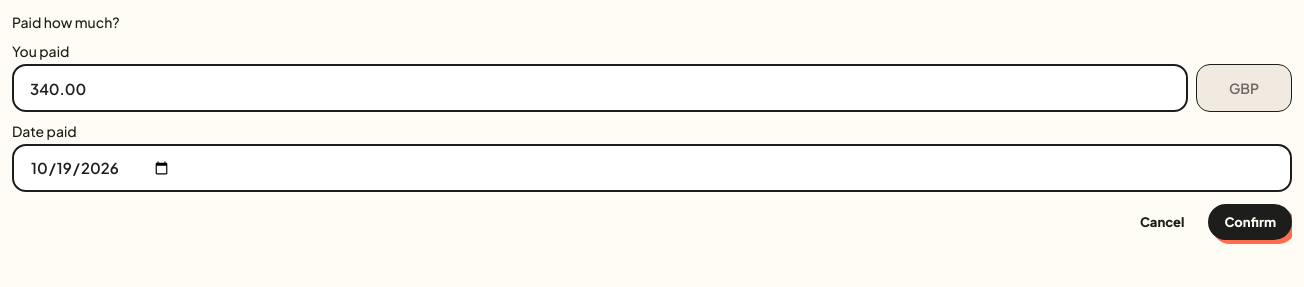
PaidConfirm › refuses to submit an empty date
Step 1. Clear the date field labelled "Date paid" → (652, 168), box [12,144,1292,192]
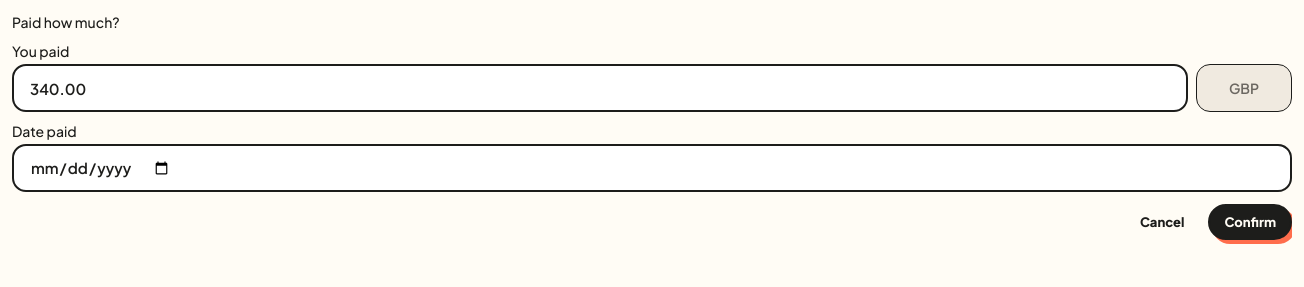
Step 2. Click the button "Confirm" → (1250, 222), box [1208,204,1292,240]
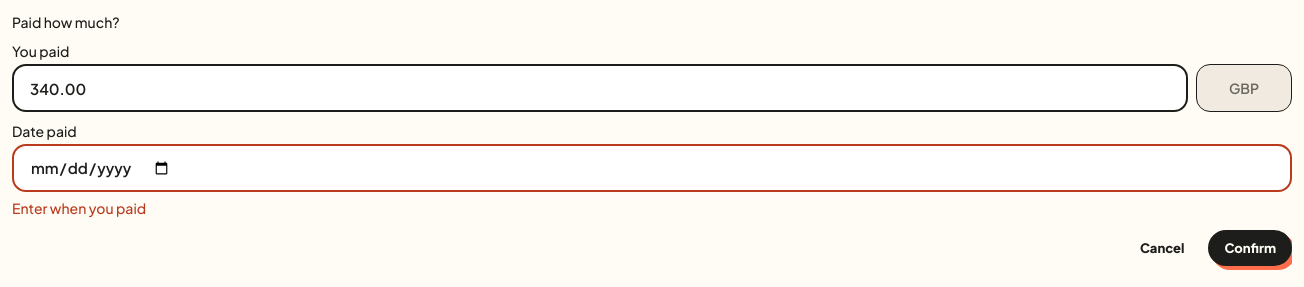
expect the text "Enter when you paid" is shown: met, box [12,199,146,217]
